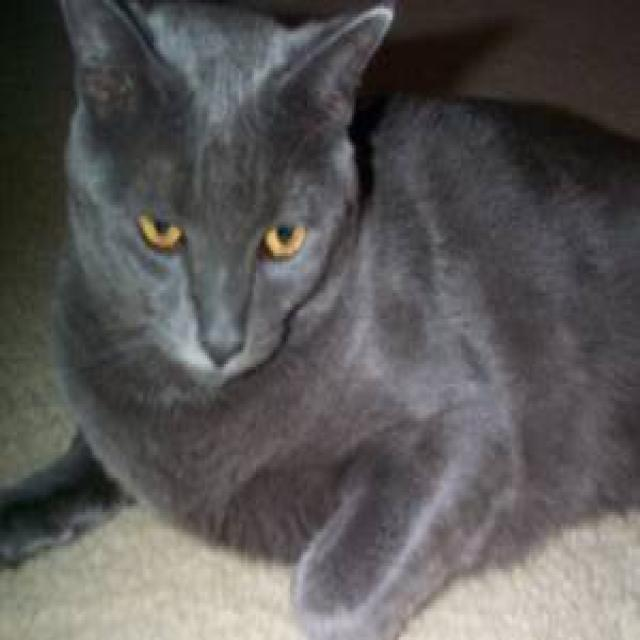Russian_Blue: (56, 0, 395, 390)
